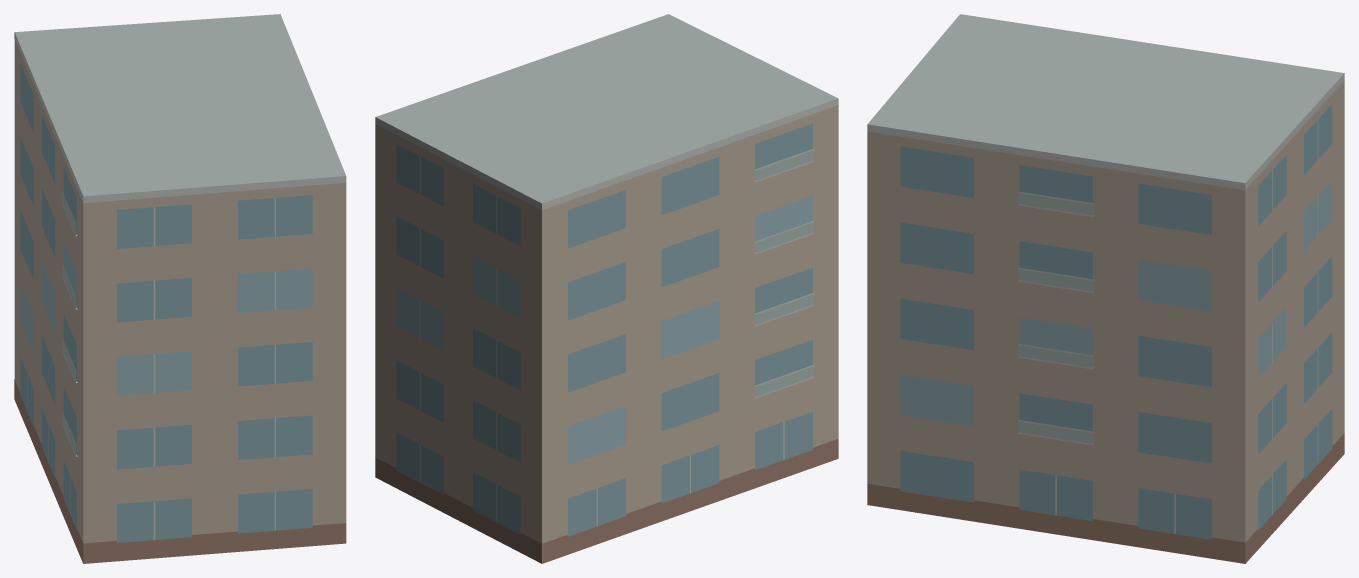
Rendered from survey-upis-32942627.glb.
The picture shows the model from 3 angles, left to right: view 1: azimuth 30°, elevation 25°; view 2: azimuth 150°, elevation 25°; view 3: azimuth 270°, elevation 25°; orthographic projection. The views are drawn at different scales.
Parts seen in each view (by area): view 1: survey-upis-32942627.tmp; view 2: survey-upis-32942627.tmp; view 3: survey-upis-32942627.tmp.
Part boxes in pixels (box(x1,y1,x2,y2)): survey-upis-32942627.tmp: box(14, 14, 346, 563); survey-upis-32942627.tmp: box(375, 14, 838, 563); survey-upis-32942627.tmp: box(867, 14, 1344, 563).
Size of the model in its own units: 12.55 by 13.15 by 14.96.
